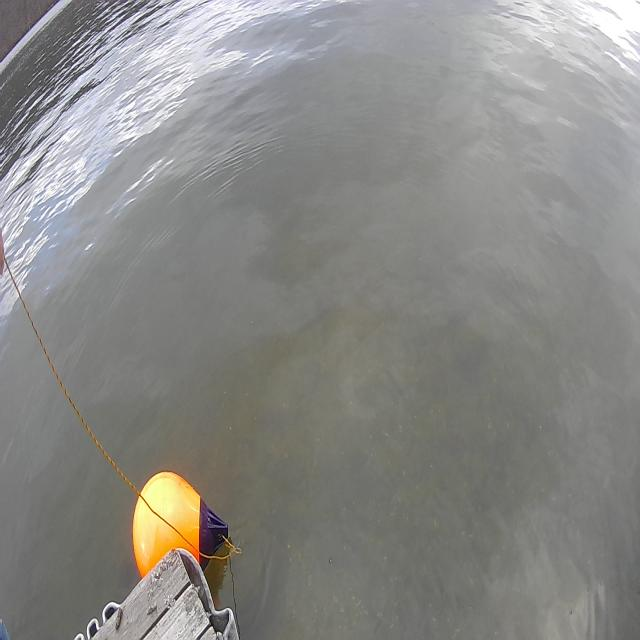Buoy: (126, 464, 232, 596)
